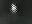person: (11, 4, 19, 15)
